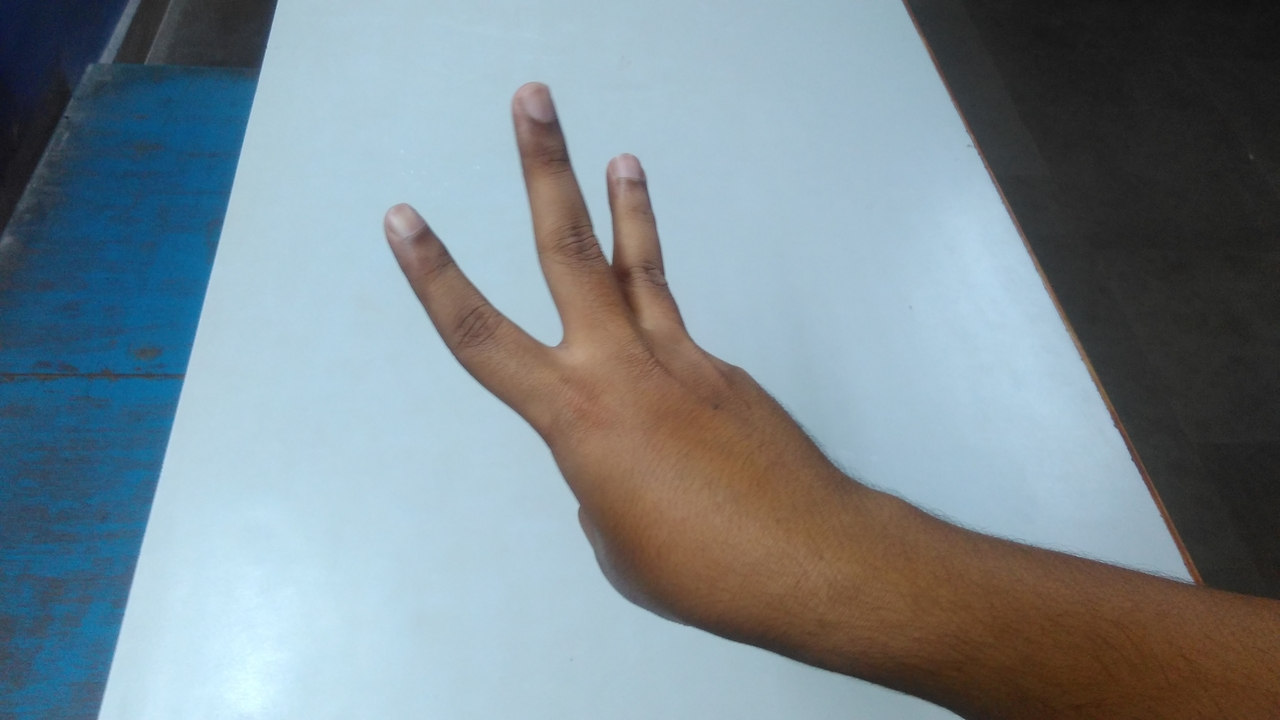fingertip: (370, 192, 438, 250), (502, 76, 566, 128), (598, 148, 658, 192)
